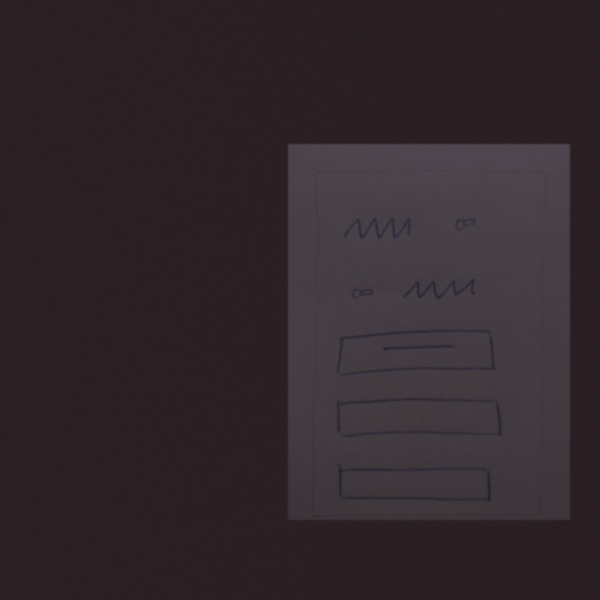button: (331, 324, 503, 379)
switch: (447, 213, 485, 238), (343, 279, 379, 305)
text: (335, 209, 425, 247), (396, 273, 484, 304)
text_input: (333, 393, 512, 447), (334, 460, 496, 508)
